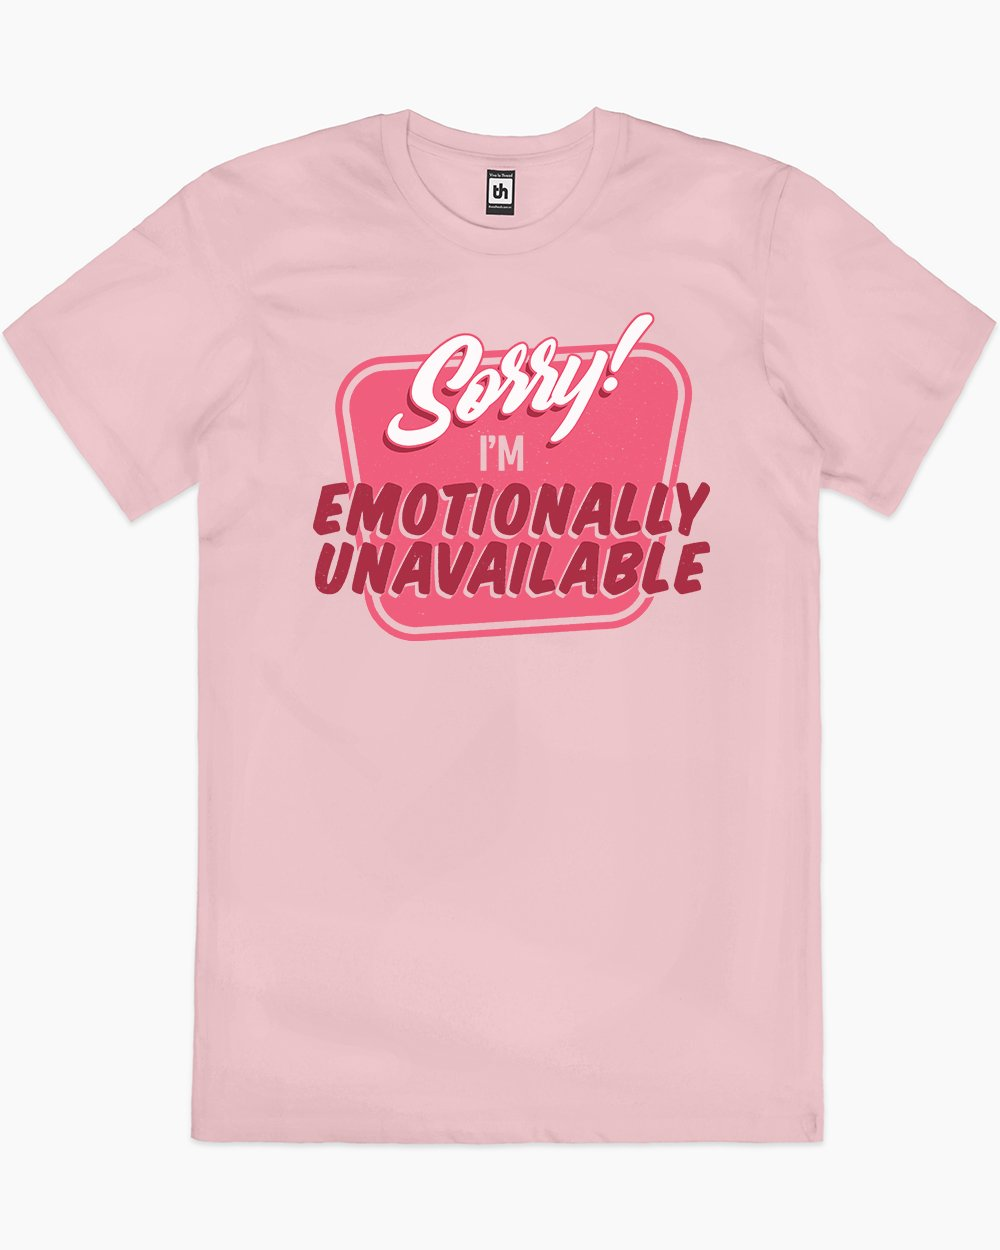design: (308, 306, 715, 646)
